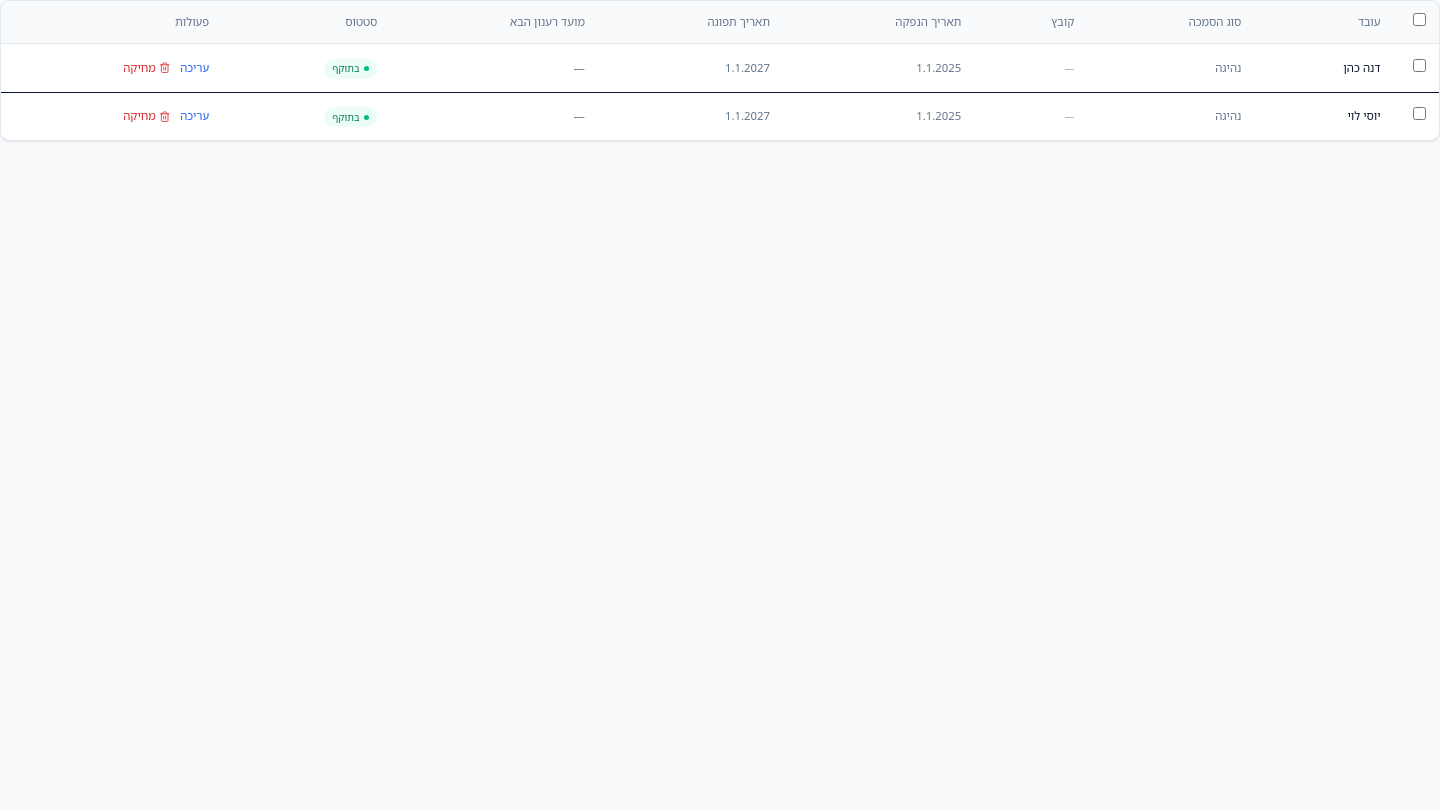
Test case: CertificationsList — bulk delete flow › partial failure surfaces an error banner AND keeps failed rows selected for retry
The width and height of the screenshot is (1440, 810).
Click the checkbox named "בחר דנה כהן — נהיגה".
click(1420, 66)  # box [1413,59,1426,72]
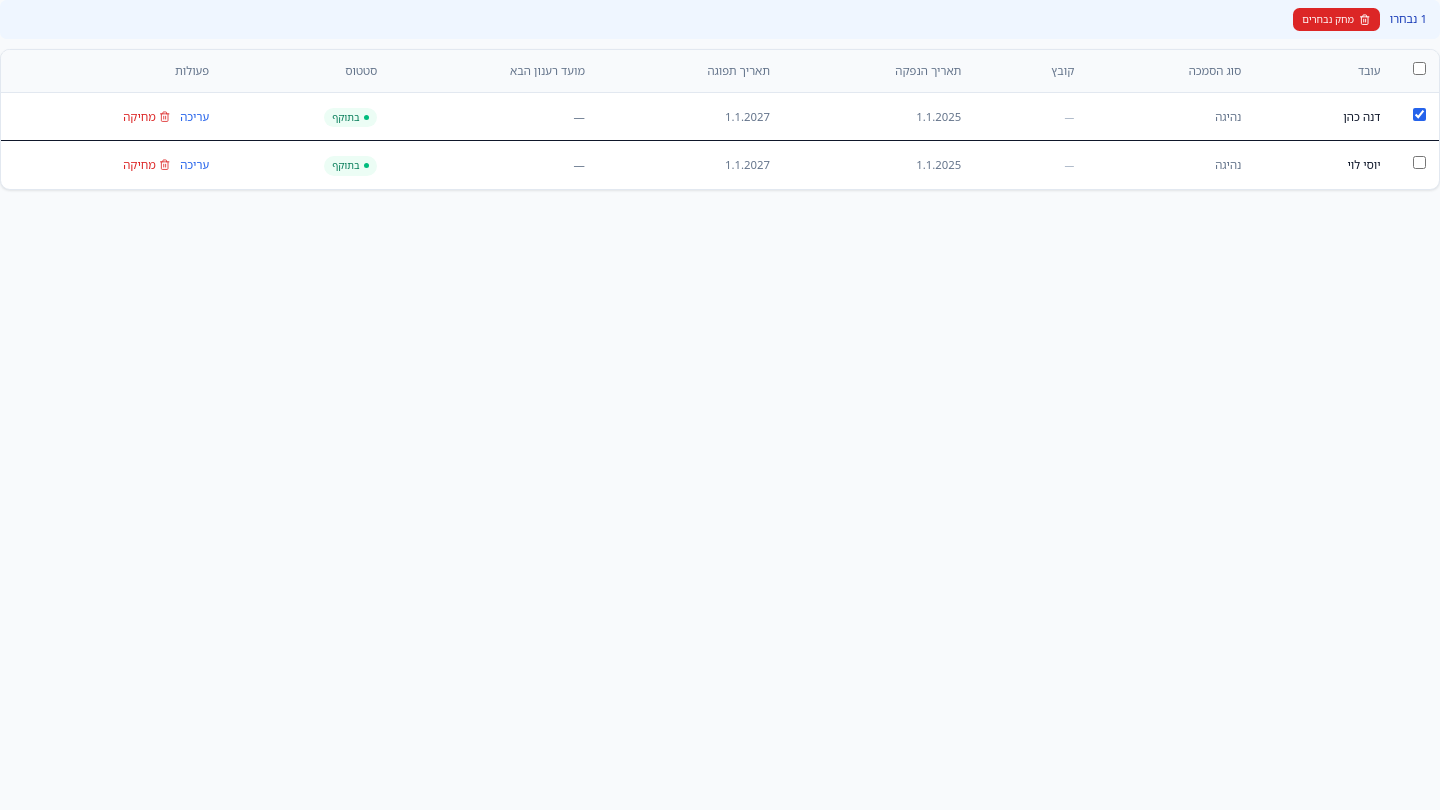
Click the checkbox named "בחר יוסי לוי — נהיגה".
click(1420, 163)  # box [1413,156,1426,169]
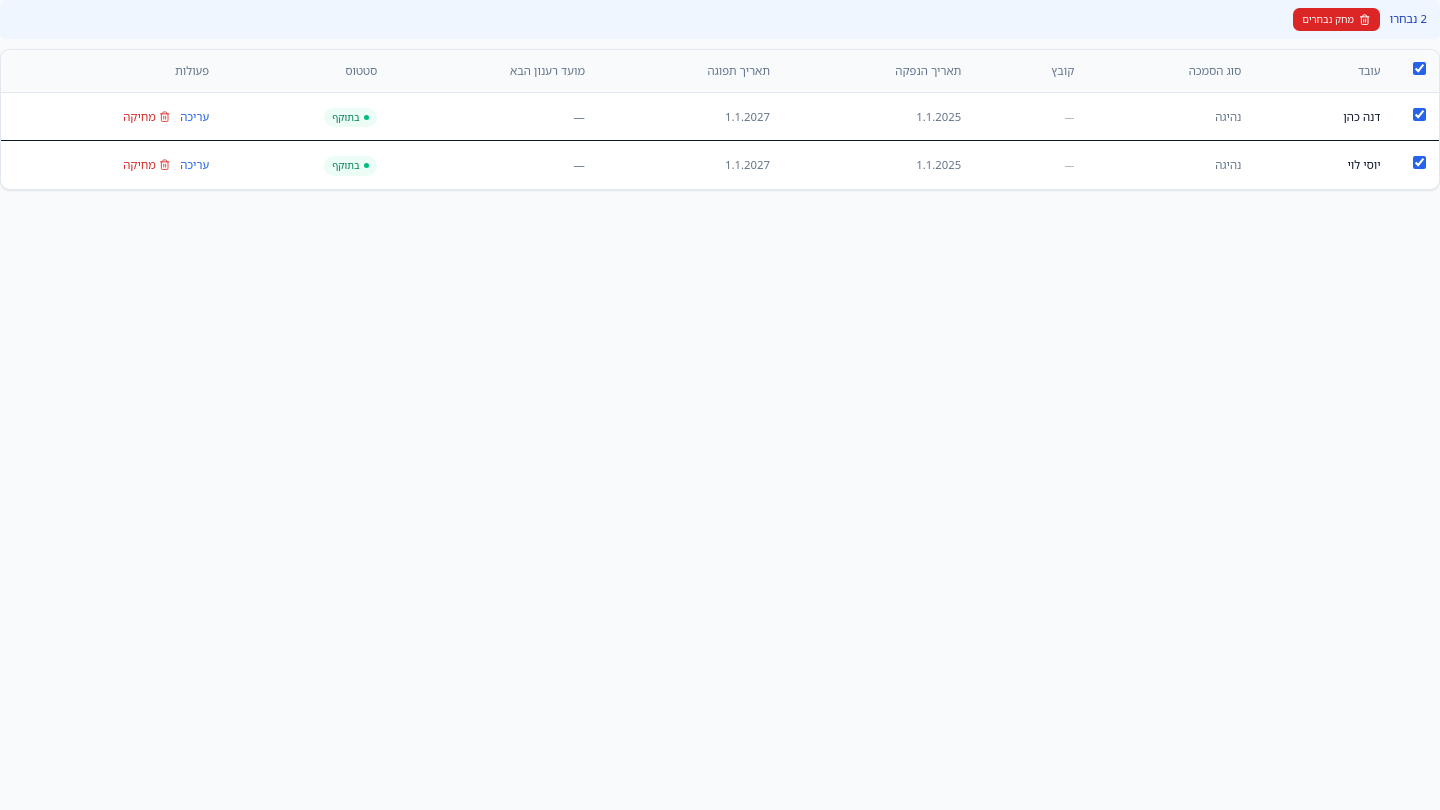
Click the button "מחק נבחרים".
click(1336, 20)  # box [1292,8,1380,31]
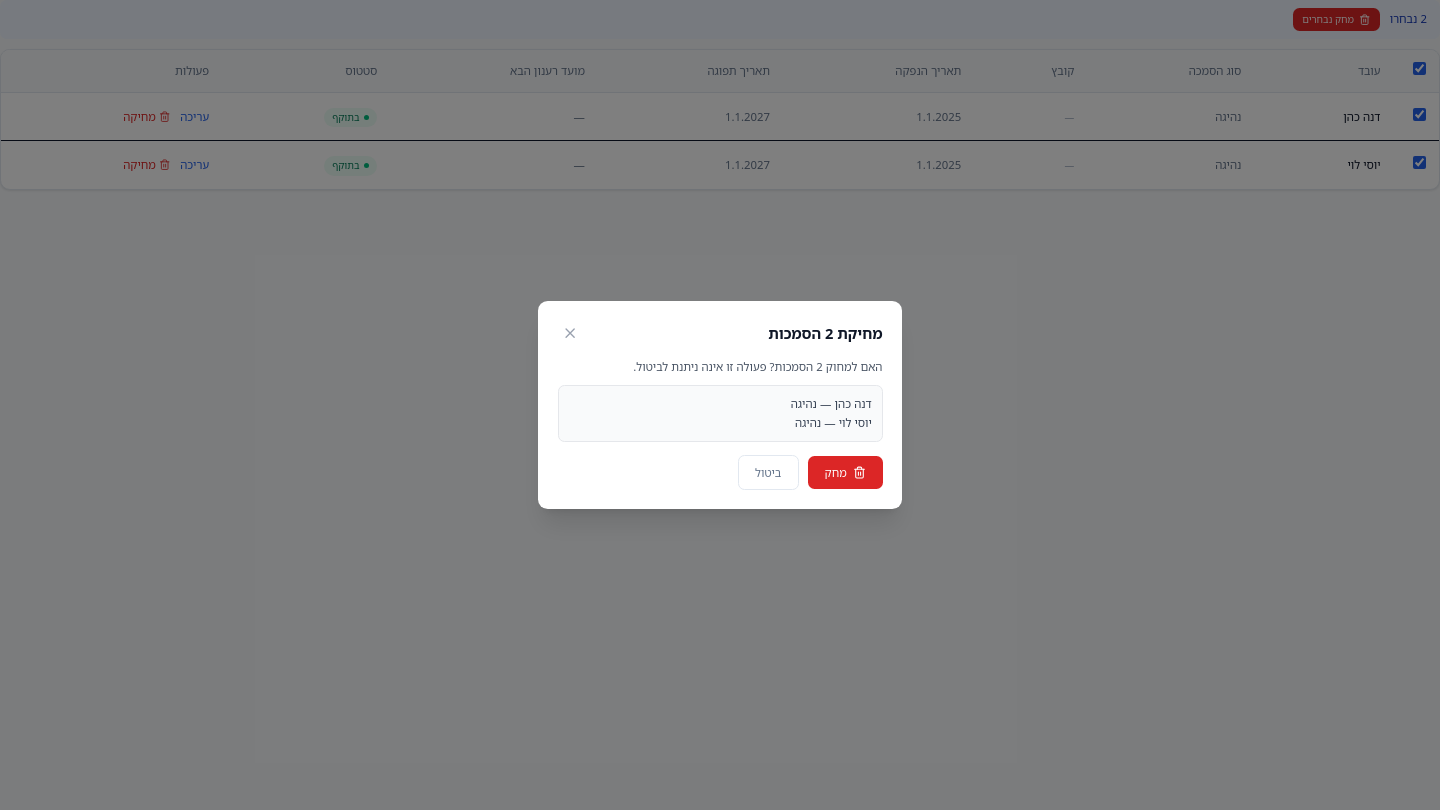
Click the button "מחק".
click(845, 473)  # box [808,456,882,489]
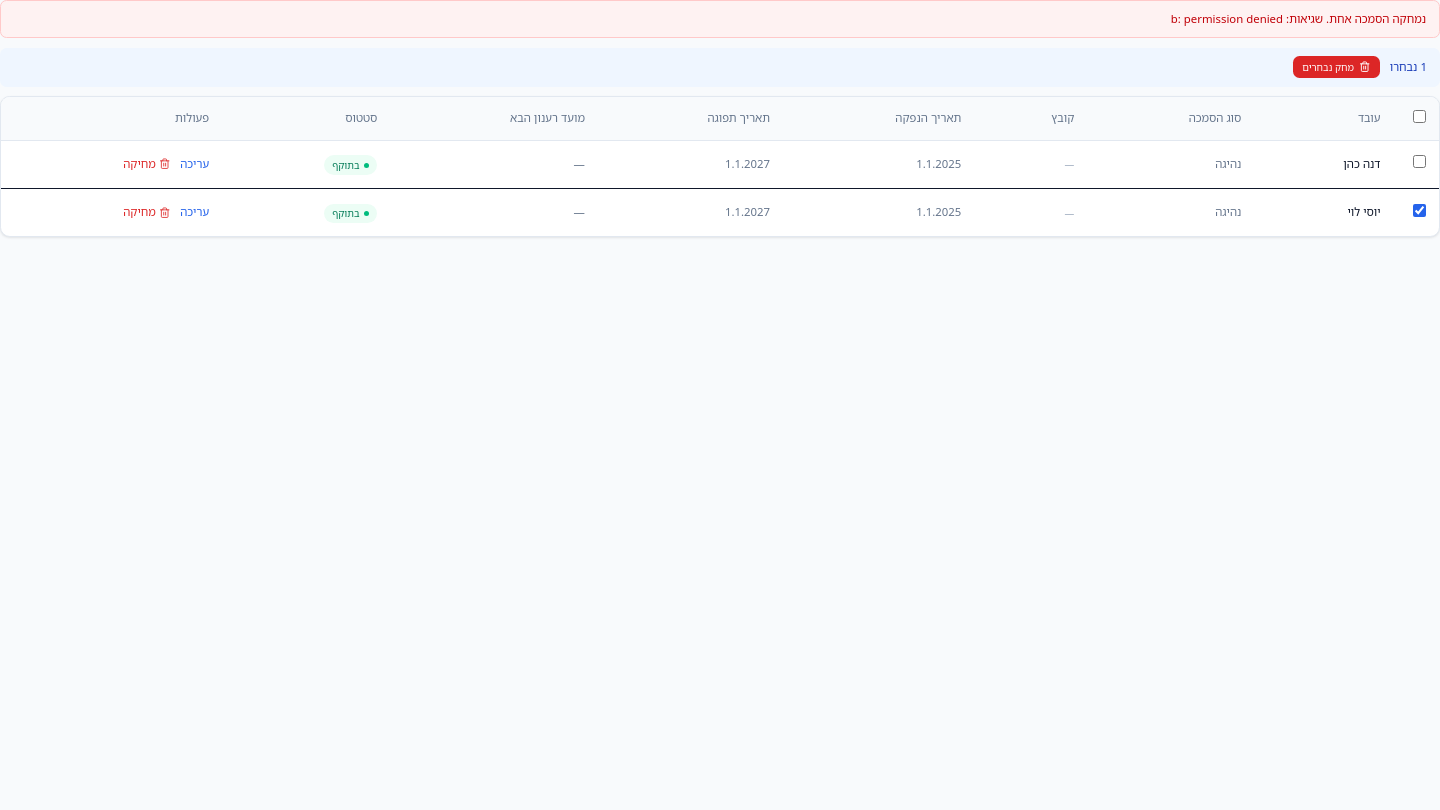
Expected: the checkbox named "בחר יוסי לוי — נהיגה" is checked, [1413,204,1426,217]
Expected: the message shows "נמחקה הסמכה אחת", [1171,11,1426,26]
Expected: the message shows "permission denied", [1171,11,1426,26]
